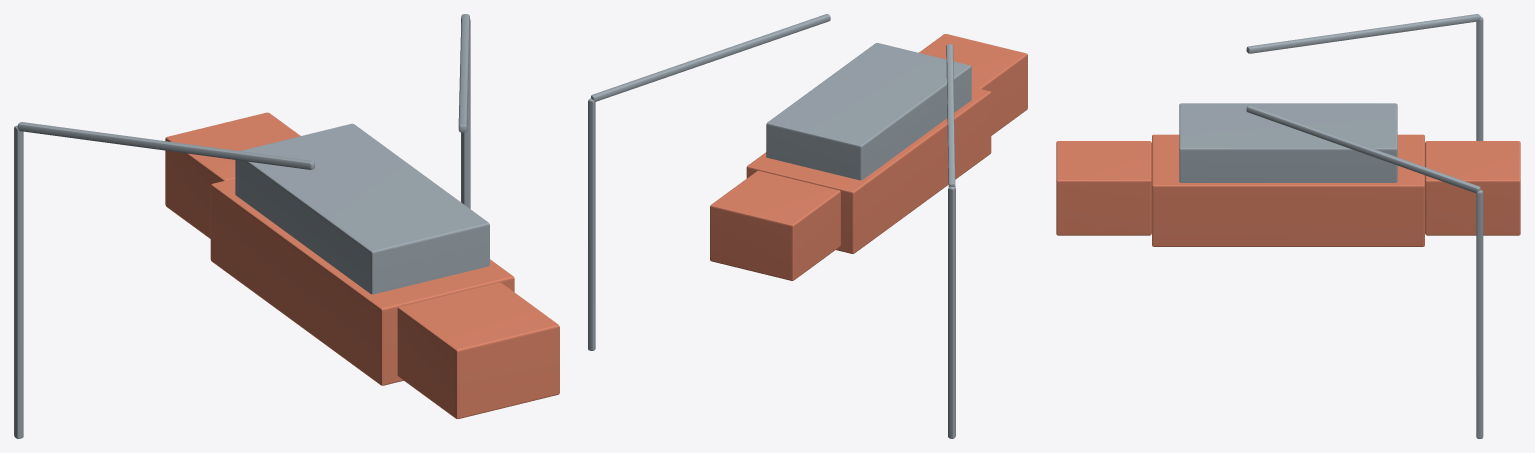
The model's file is lifeboat_davits.glb.
The picture shows the model from 3 angles, left to right: view 1: azimuth 30°, elevation 25°; view 2: azimuth 150°, elevation 25°; view 3: azimuth 270°, elevation 25°; orthographic projection. The views are drawn at different scales.
Visible parts, largest first — view 1: lifeboat_davits; view 2: lifeboat_davits; view 3: lifeboat_davits.
Part boxes in pixels (x1,y1,x2,y2): lifeboat_davits: (14, 14, 559, 438); lifeboat_davits: (588, 14, 1027, 438); lifeboat_davits: (1056, 14, 1520, 438).
Bounding box in the file's own units: 3.05 × 2.22 × 3.4.
